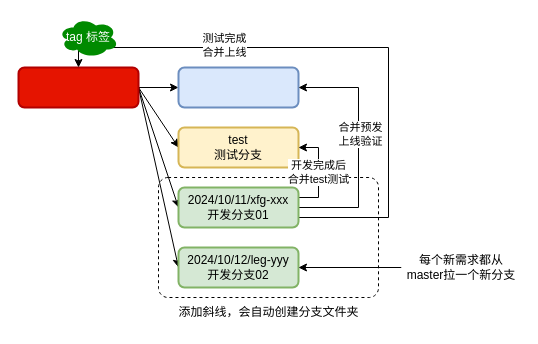
Image size: 538x344. Some labels were removed from this diagram. The centre of each missing label's shape, as x and y in pixels:
master/main 主分支，不可直接修改代码: point 78,87
pre/release 预发分支: point 238,87
